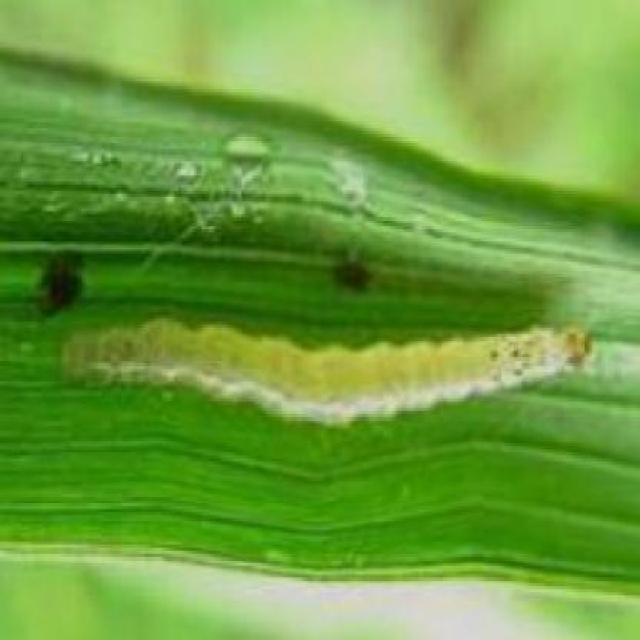leaf-folder: (52, 242, 606, 458)
